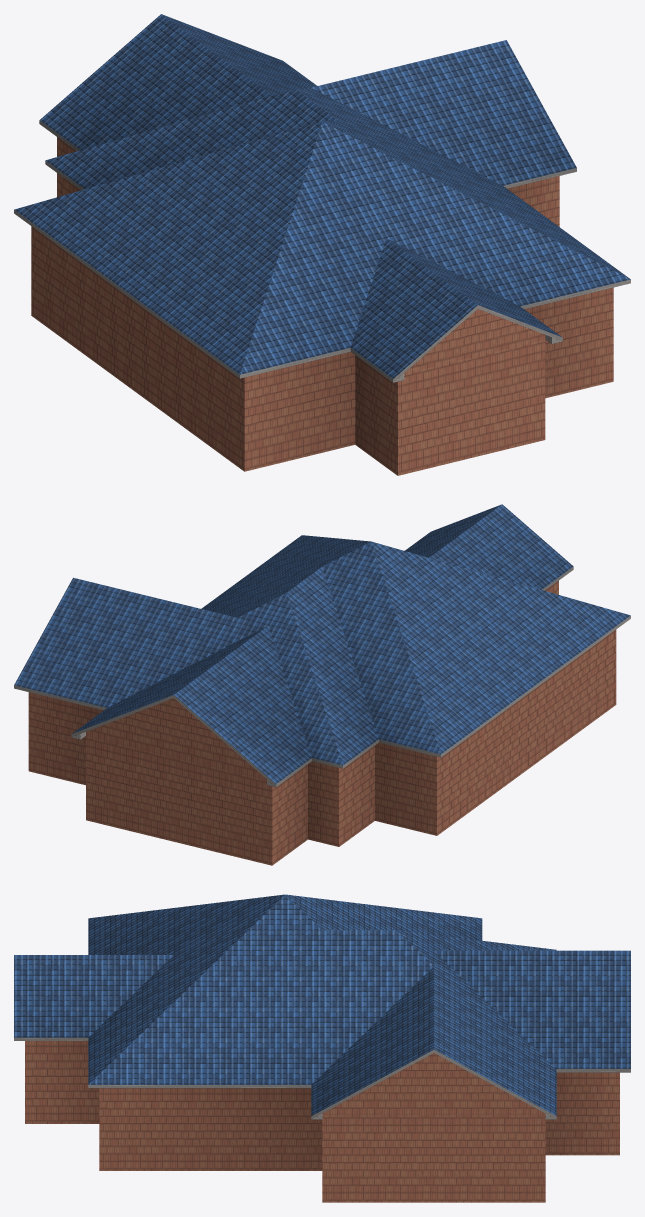
The model's file is house_031.glb.
The picture shows the model from 3 angles, top to bottom: view 1: azimuth 30°, elevation 25°; view 2: azimuth 150°, elevation 25°; view 3: azimuth 270°, elevation 25°; orthographic projection. The views are drawn at different scales.
Visible parts, largest first — view 1: Export; view 2: Export; view 3: Export.
Boxes of the visible parts, box(x1,y1,x2,y2) form: Export: box(14, 14, 630, 475); Export: box(14, 504, 630, 865); Export: box(14, 894, 630, 1202).
Size of the model in its own units: 12.6 by 5.88 by 16.6.
Materials: 3 (3 with a texture image).
